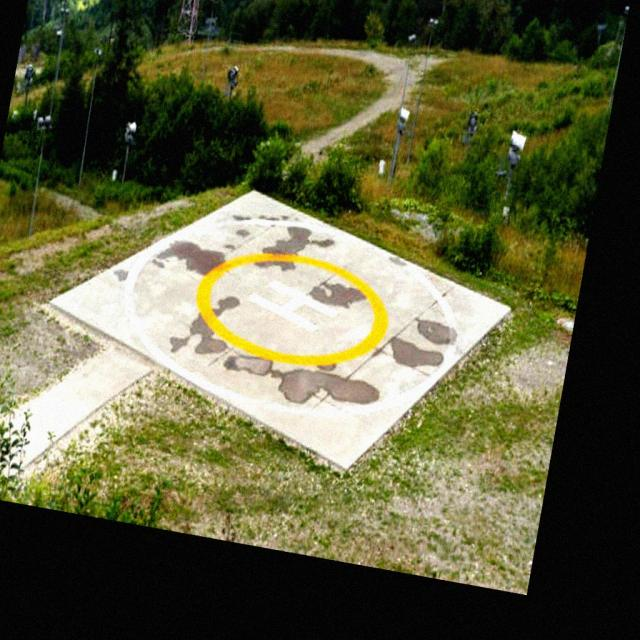helipad: (195, 251, 392, 366)
